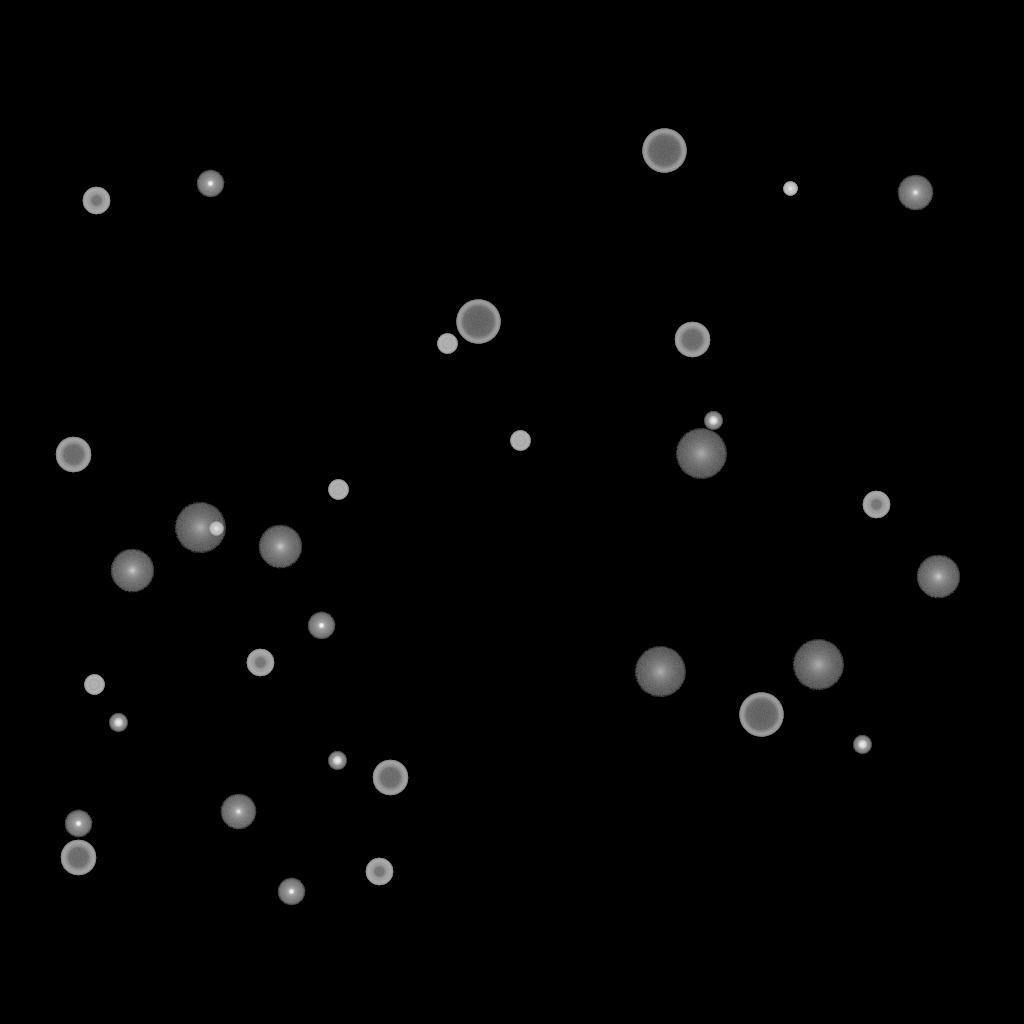depth:-10: (196, 170, 224, 198), (307, 612, 335, 640), (64, 810, 92, 838), (277, 878, 305, 906)
depth:-20: (328, 752, 346, 770), (109, 714, 127, 732), (853, 736, 871, 754), (704, 412, 722, 430)
depth:-30: (783, 182, 797, 196), (209, 522, 223, 536)
depth:-40: (510, 431, 530, 451), (328, 480, 348, 500), (437, 334, 457, 354), (84, 675, 104, 695)
depth:-50: (82, 187, 110, 215), (246, 649, 274, 677), (862, 491, 890, 519), (365, 858, 393, 886)
depth:-60: (55, 437, 91, 473), (372, 760, 408, 796), (60, 840, 96, 876), (674, 322, 710, 358)
depth:-70: (642, 129, 686, 173), (739, 693, 783, 737), (456, 300, 500, 344)
depth:0: (220, 794, 256, 830), (897, 175, 933, 211)
depth:10: (110, 549, 154, 593), (916, 555, 960, 599), (258, 525, 302, 569)
depth:20: (174, 503, 226, 553), (675, 429, 727, 479), (792, 640, 844, 690), (634, 647, 686, 697)
